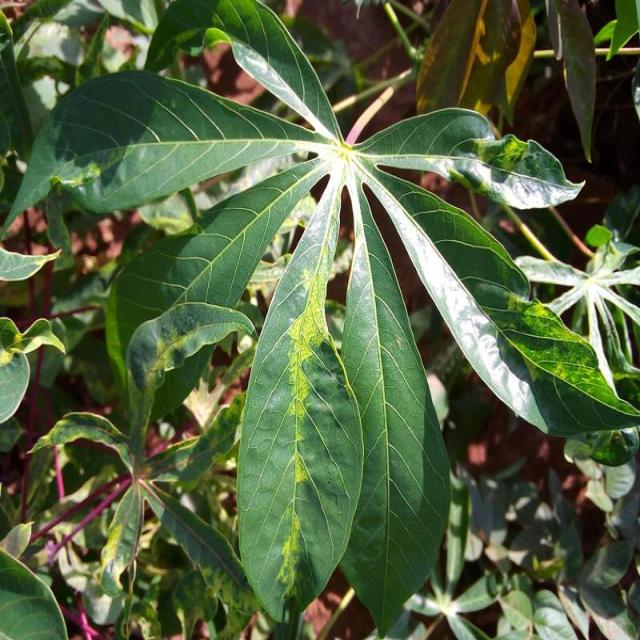cassava leaf: (3, 1, 637, 633), (234, 161, 364, 622), (337, 165, 451, 637)
